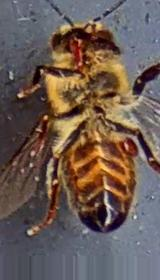varroa_mite: (108, 130, 144, 156)
